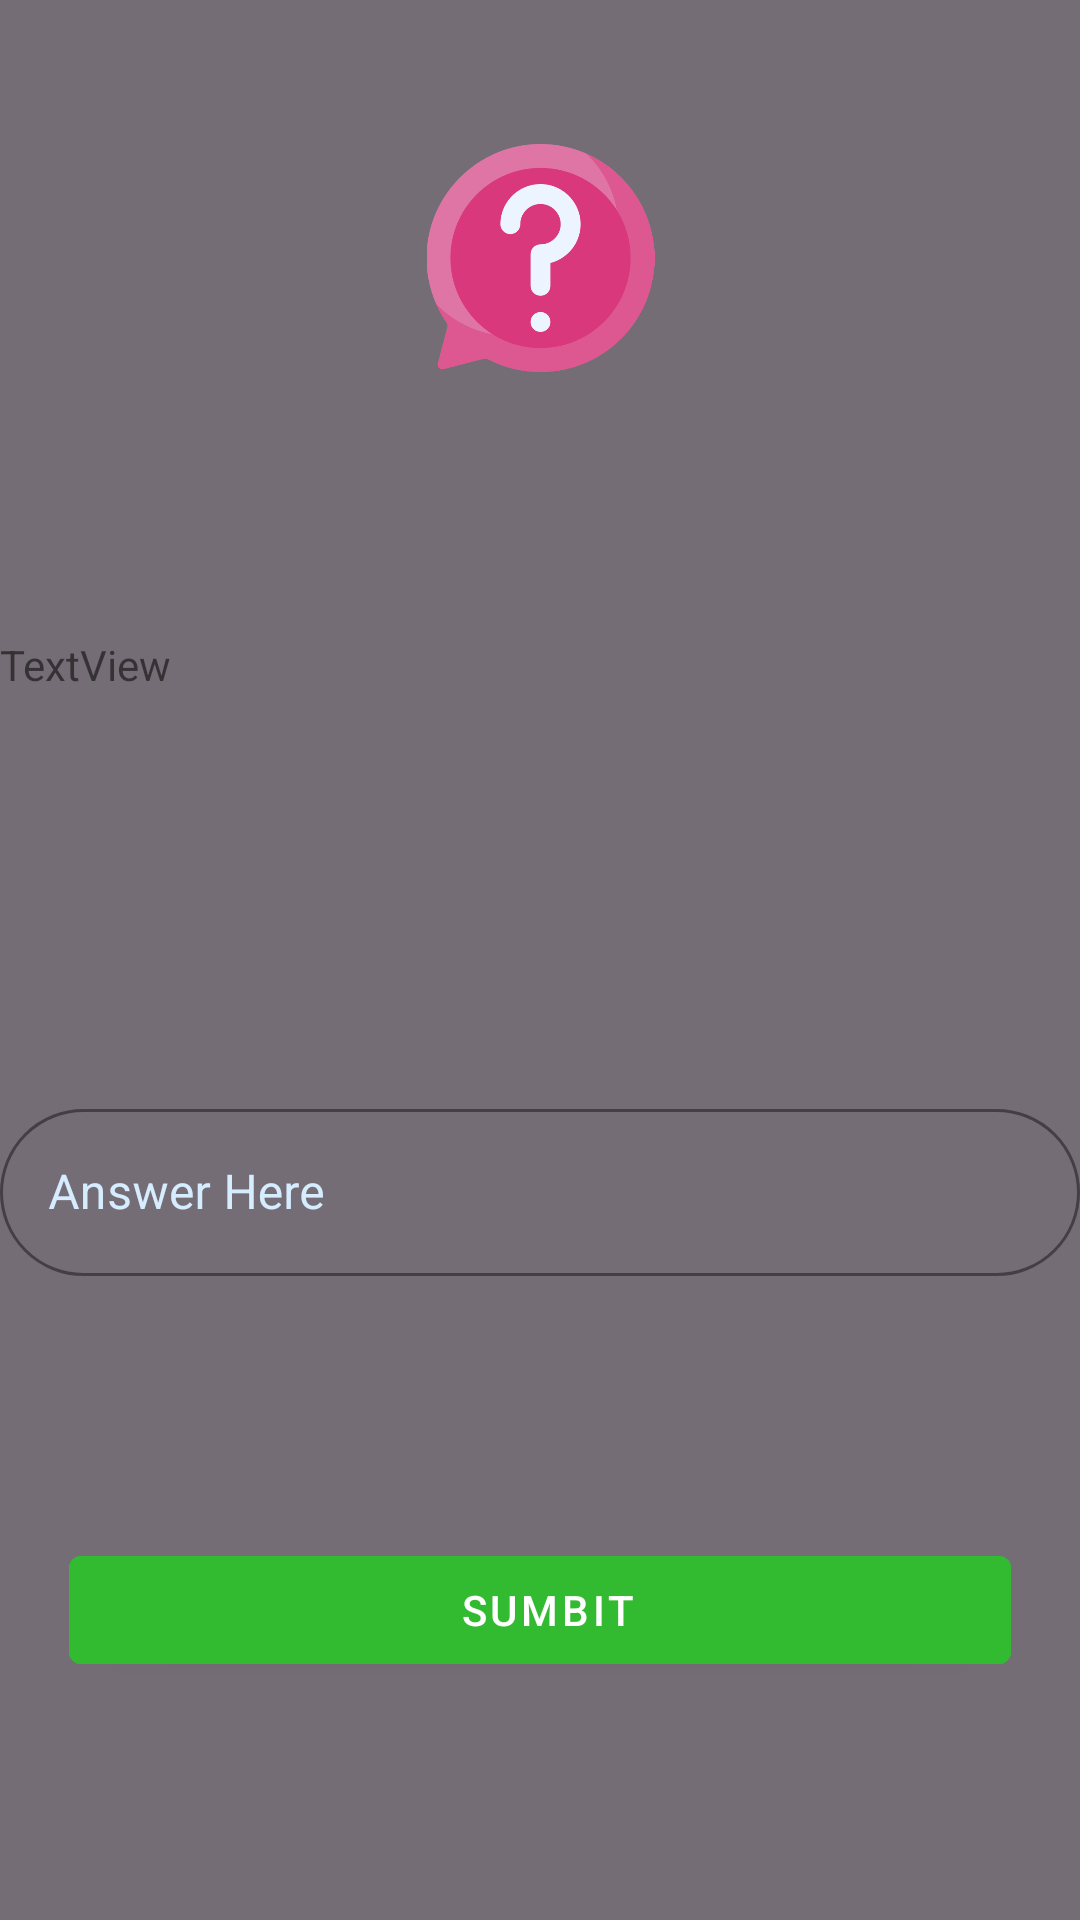

Where to tap for icons on this 1080 x 1920 app screen, as (x=x, y=y):
question: (x=541, y=258)
